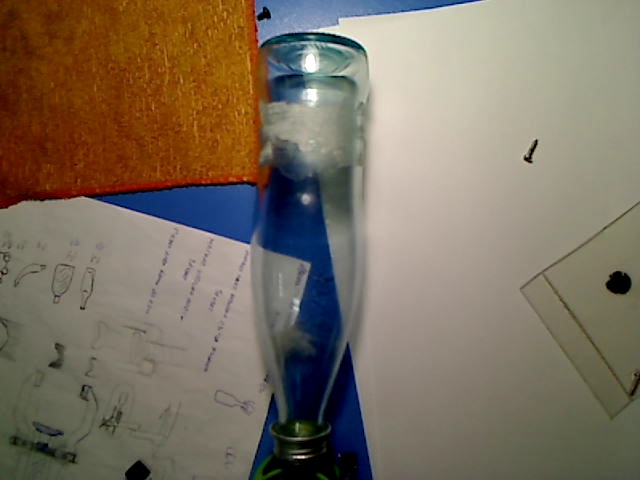bottle: (248, 31, 373, 464)
